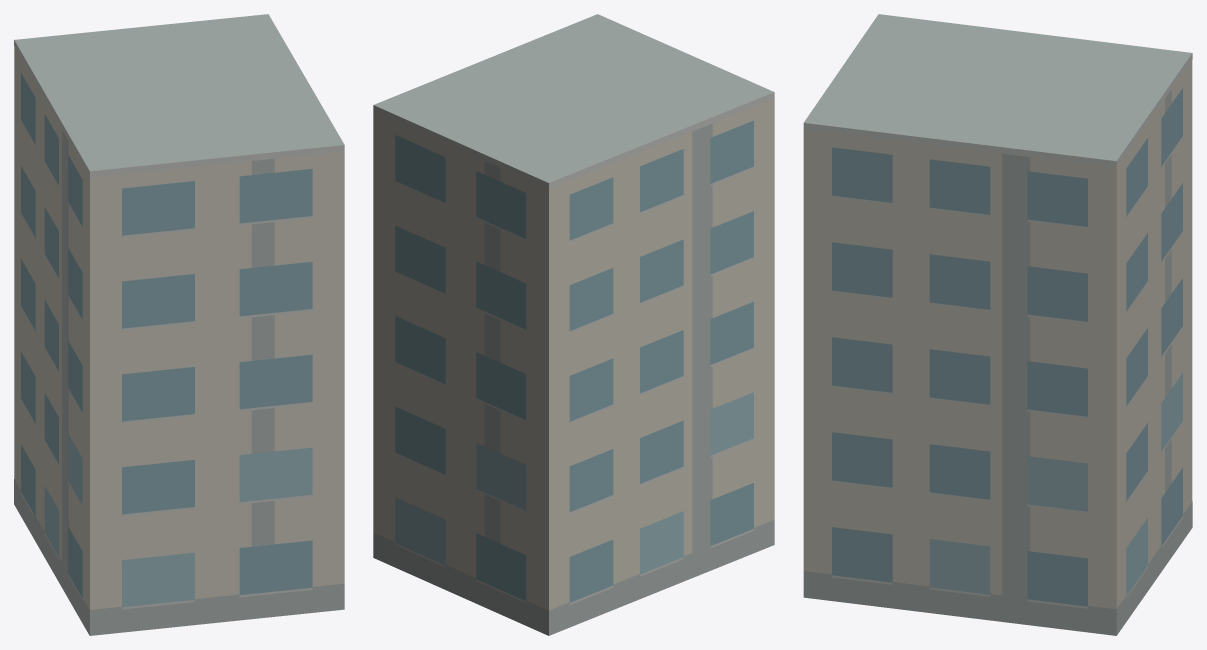
Rendered from survey-upis-32706600.glb.
The picture shows the model from 3 angles, left to right: view 1: azimuth 30°, elevation 25°; view 2: azimuth 150°, elevation 25°; view 3: azimuth 270°, elevation 25°; orthographic projection. The views are drawn at different scales.
Visible parts, largest first — view 1: survey-upis-32706600.tmp; view 2: survey-upis-32706600.tmp; view 3: survey-upis-32706600.tmp.
Boxes of the visible parts, x1,y1,x2,y2 form: survey-upis-32706600.tmp: (14, 14, 344, 635); survey-upis-32706600.tmp: (373, 14, 774, 635); survey-upis-32706600.tmp: (803, 14, 1192, 635).
Bounding box in the file's own units: 11.67 × 17.54 × 13.03.
